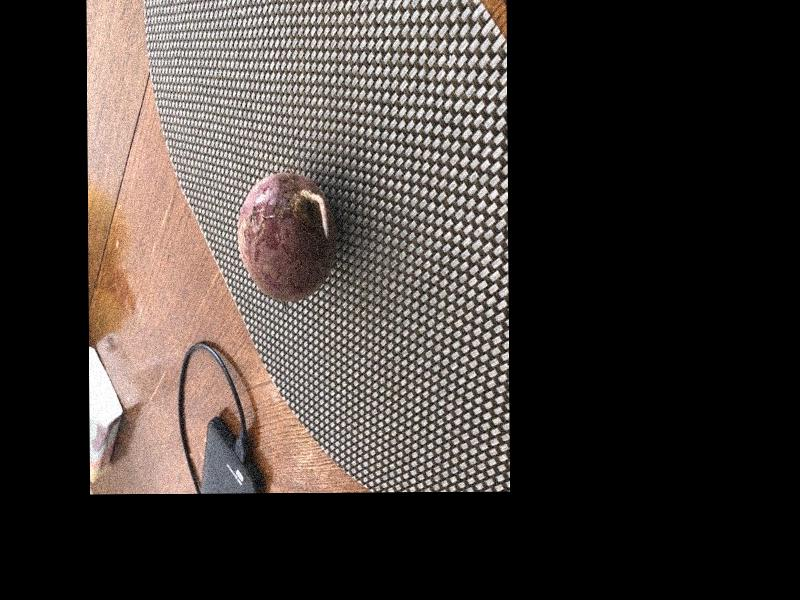Beet: (237, 172, 336, 302)
